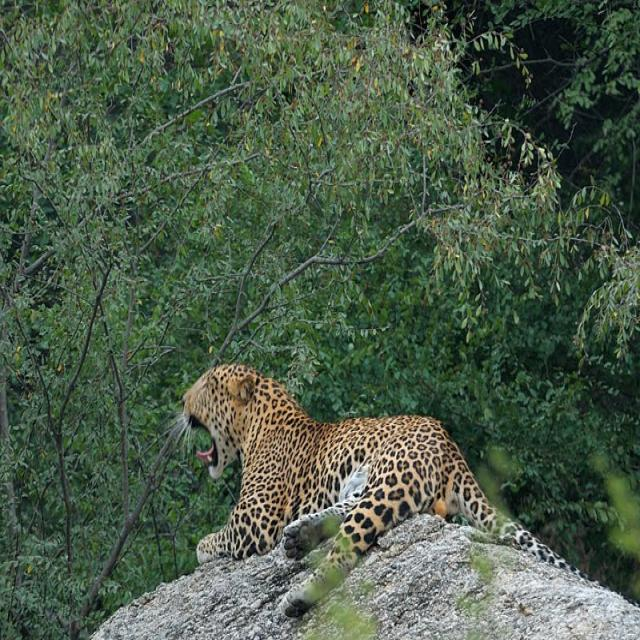Leopard: (183, 363, 492, 611)
